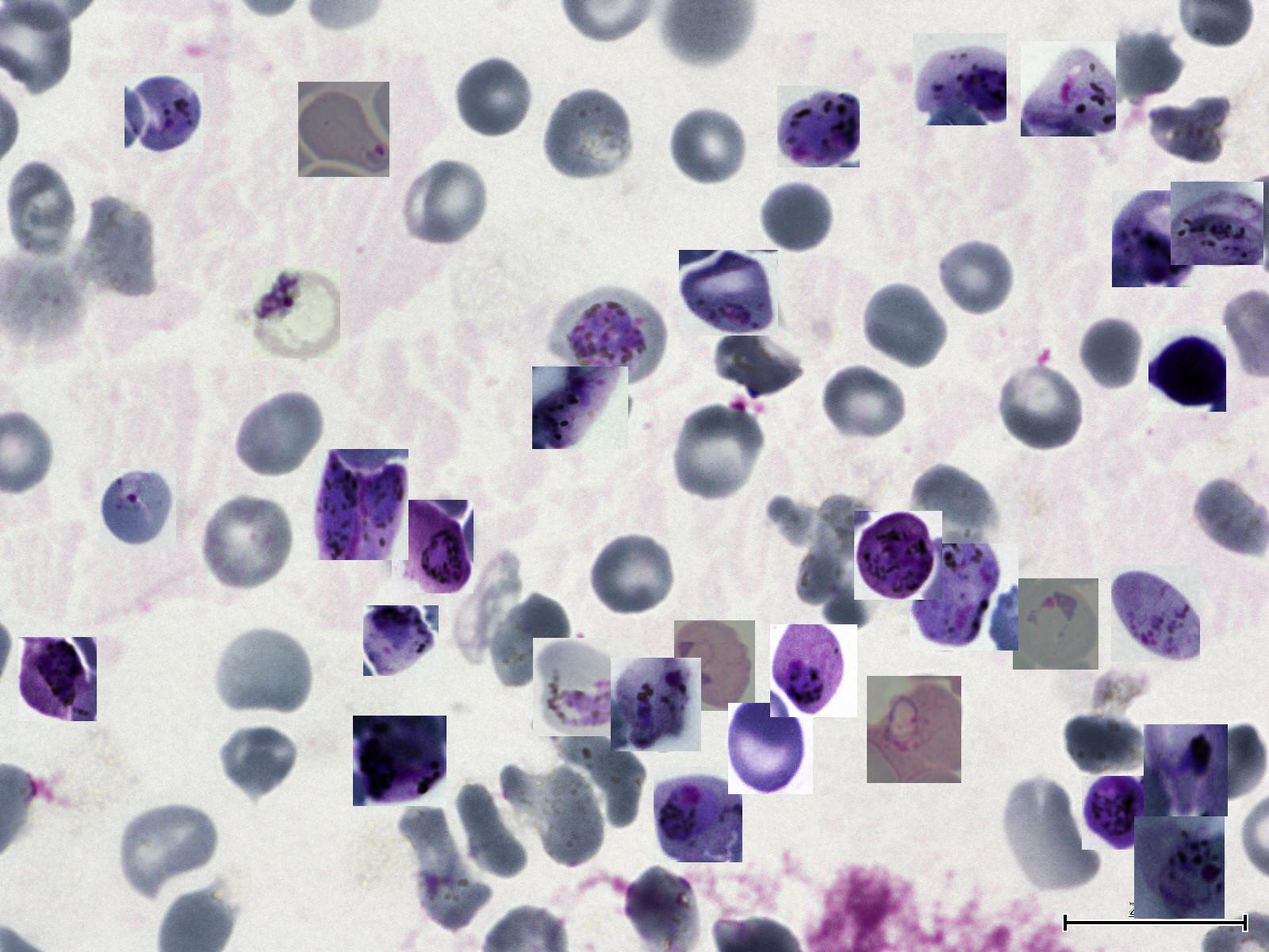Infected: (550, 288, 669, 388), (910, 543, 1018, 651), (533, 638, 642, 736), (312, 449, 408, 560), (867, 676, 961, 783), (1134, 816, 1225, 919), (1112, 190, 1208, 287), (1021, 41, 1116, 136), (298, 82, 389, 177), (1111, 565, 1200, 662), (679, 250, 778, 336), (913, 34, 1006, 125), (611, 658, 702, 751), (353, 716, 447, 806), (654, 767, 742, 862), (252, 267, 340, 359), (770, 624, 857, 717), (532, 367, 628, 449), (854, 511, 942, 600), (1013, 578, 1098, 670), (728, 703, 813, 794), (1144, 724, 1228, 816), (1171, 182, 1263, 265), (392, 500, 473, 593), (674, 620, 755, 711), (1148, 325, 1226, 412), (777, 86, 860, 167), (18, 638, 97, 722), (125, 73, 203, 152), (100, 468, 176, 549), (1082, 776, 1161, 850), (363, 605, 439, 676)
Uninfected: (393, 805, 492, 932), (999, 778, 1095, 896), (794, 496, 874, 628), (517, 767, 610, 875), (200, 491, 295, 593), (540, 85, 635, 185), (551, 730, 646, 829), (118, 800, 220, 891), (672, 401, 764, 501), (213, 626, 314, 716), (484, 590, 573, 691), (71, 194, 152, 302), (404, 152, 497, 244), (454, 775, 528, 888), (234, 387, 324, 478), (859, 280, 948, 369), (589, 531, 677, 618), (2, 160, 77, 259), (909, 456, 999, 536), (820, 363, 909, 443), (997, 367, 1077, 456), (1099, 28, 1185, 108), (668, 105, 750, 188), (454, 56, 535, 139), (1062, 707, 1151, 781), (1193, 720, 1267, 809), (216, 722, 300, 800), (937, 238, 1014, 317), (756, 178, 834, 255), (1148, 94, 1234, 163), (713, 324, 802, 390), (1072, 312, 1144, 393)
